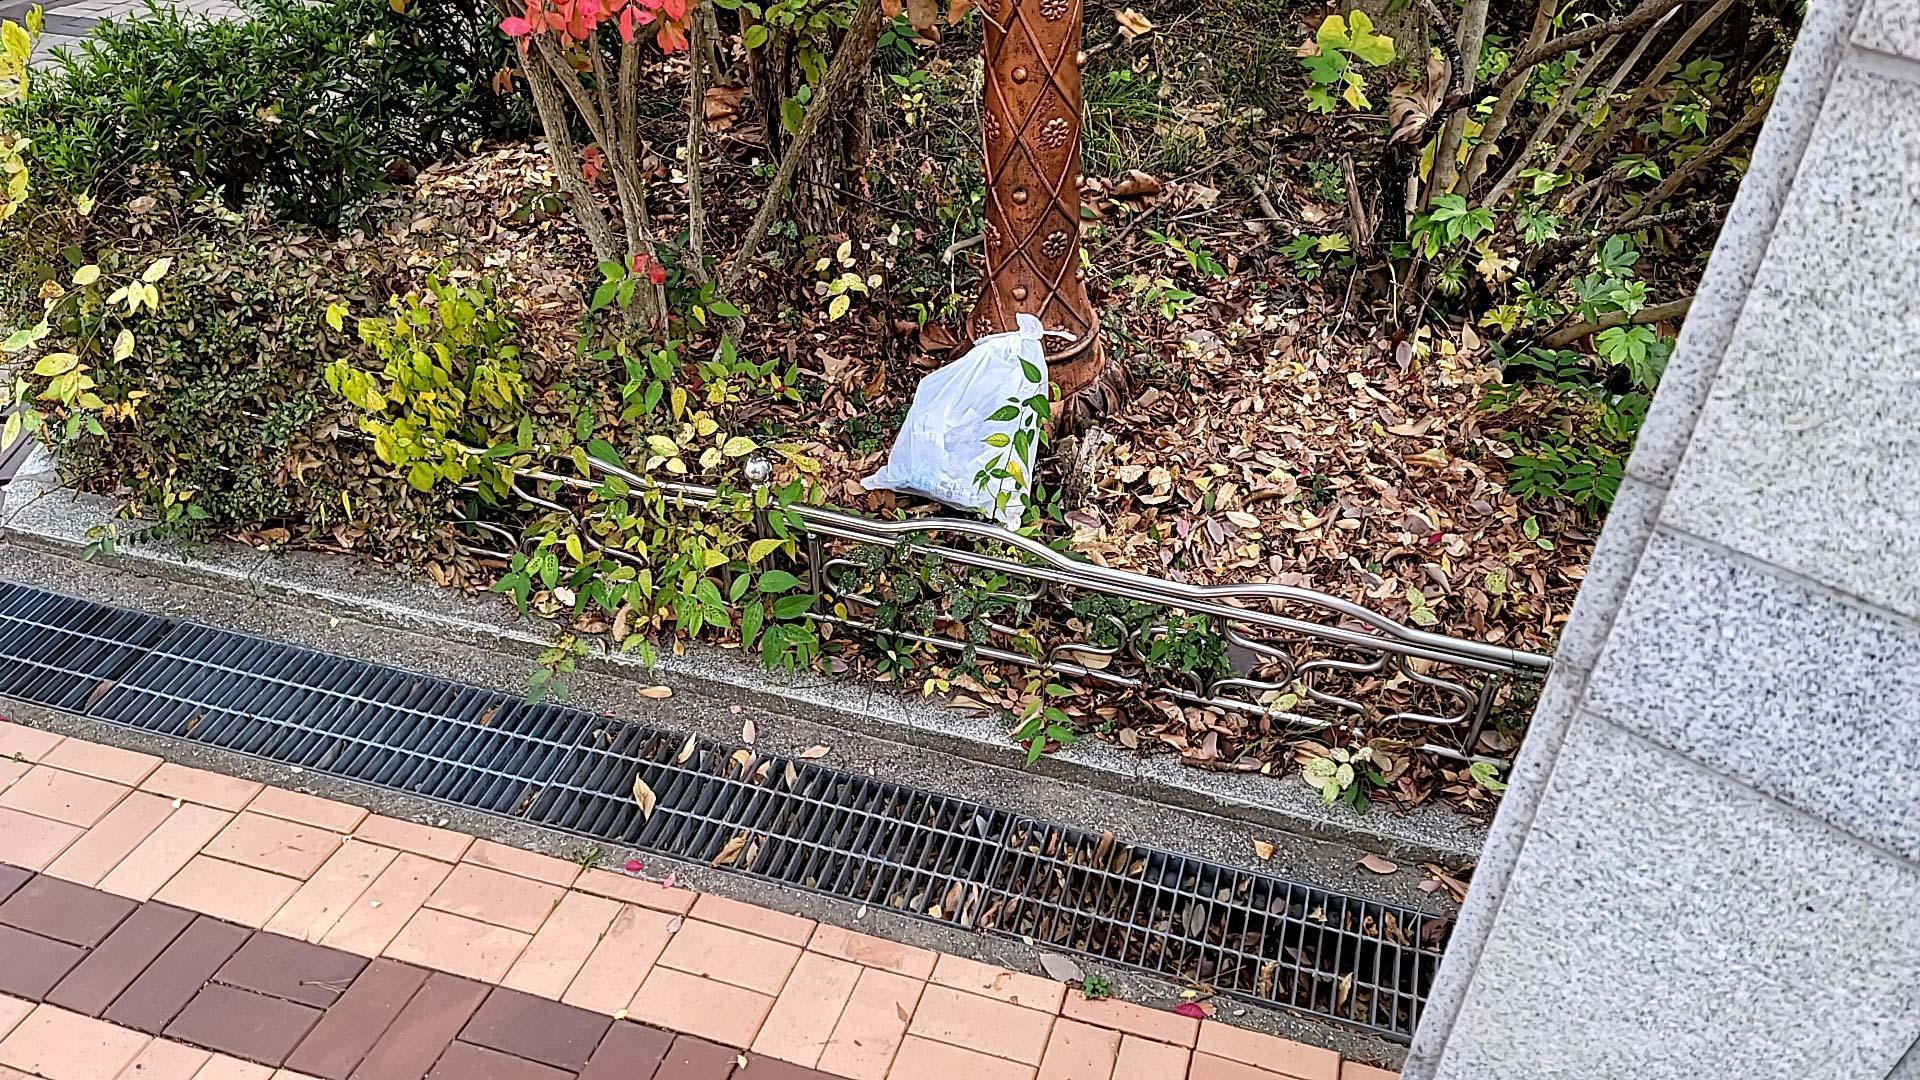white_bag: (843, 297, 1062, 549)
